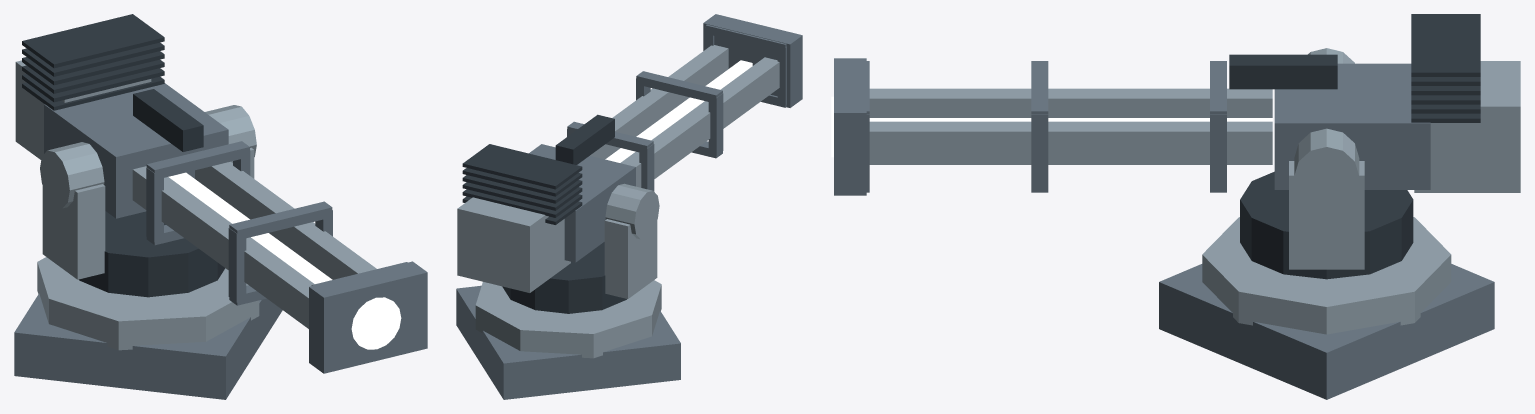
Rendered from lancer_t2.glb.
The picture shows the model from 3 angles, left to right: view 1: azimuth 30°, elevation 25°; view 2: azimuth 150°, elevation 25°; view 3: azimuth 270°, elevation 25°; orthographic projection. The views are drawn at different scales.
Visible parts, largest first — view 1: Foundation, Conductive rail (×2), Base upper armor, Rear radiator (×6), Receiver, Aperture, Yaw bearing, Elevation fork, Trunnion (×2), Focus collar bridge (×2), Sight, Focus collar upright (×2) (+3 smaller); view 2: Foundation, Conductive rail (×2), Base upper armor, Rear equipment, Rear radiator (×6), Receiver, Yaw bearing, Elevation fork, Aperture, Focus collar bridge (×3), Trunnion, Focus collar upright (×3) (+2 smaller); view 3: Conductive rail (×2), Foundation, Base upper armor, Receiver, Rear equipment, Yaw bearing, Rear radiator (×6), Elevation fork, Aperture, Trunnion, Sight, Focus collar upright (×2) (+2 smaller).
Boxes of the visible parts, box(x1,y1,x2,y2) form: Foundation: box(14, 293, 282, 399); Conductive rail (×2): box(132, 161, 376, 328); Base upper armor: box(37, 257, 259, 350); Rear radiator (×6): box(22, 14, 164, 110); Receiver: box(44, 83, 228, 218); Aperture: box(309, 261, 427, 373); Yaw bearing: box(78, 211, 225, 297); Elevation fork: box(42, 184, 105, 279); Trunnion (×2): box(40, 105, 256, 208); Focus collar bridge (×2): box(146, 141, 332, 239); Sight: box(133, 89, 203, 151); Focus collar upright (×2): box(146, 167, 246, 302); Foundation: box(456, 285, 680, 399); Conductive rail (×2): box(590, 45, 779, 187); Base upper armor: box(475, 280, 661, 358); Rear equipment: box(457, 197, 570, 292); Rear radiator (×6): box(462, 144, 582, 224); Receiver: box(529, 144, 635, 262); Yaw bearing: box(502, 242, 626, 313); Elevation fork: box(604, 219, 657, 298); Aperture: box(703, 14, 802, 107); Focus collar bridge (×3): box(567, 24, 786, 153); Trunnion: box(605, 183, 659, 239); Focus collar upright (×3): box(639, 46, 786, 191); Conductive rail (×2): box(869, 88, 1272, 164); Foundation: box(1159, 264, 1494, 399); Base upper armor: box(1202, 217, 1451, 334); Receiver: box(1274, 63, 1430, 189); Rear equipment: box(1414, 61, 1520, 192); Yaw bearing: box(1240, 171, 1413, 279); Rear radiator (×6): box(1411, 14, 1480, 122); Elevation fork: box(1289, 161, 1364, 269); Aperture: box(834, 58, 866, 195); Trunnion: box(1294, 128, 1359, 205); Sight: box(1229, 54, 1337, 89); Focus collar upright (×2): box(1031, 114, 1226, 189).
Size of the model in its own units: 1.55 by 1.46 by 3.18.
